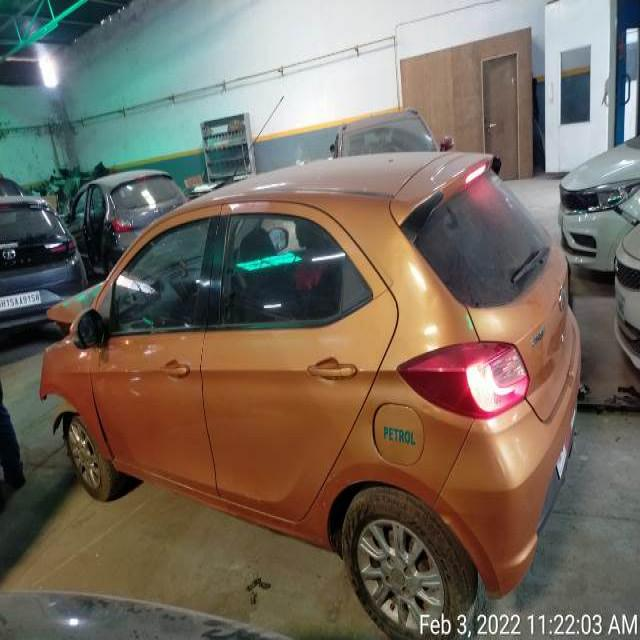damage: (39, 373, 81, 430)
